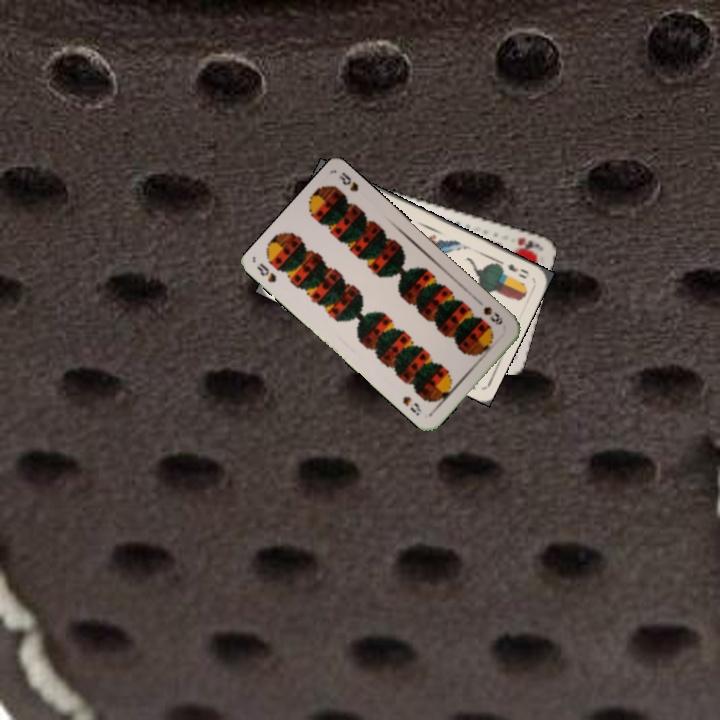EO: (495, 257, 531, 281)
HK: (513, 233, 542, 252)
S8: (479, 302, 506, 328), (253, 259, 279, 285)
